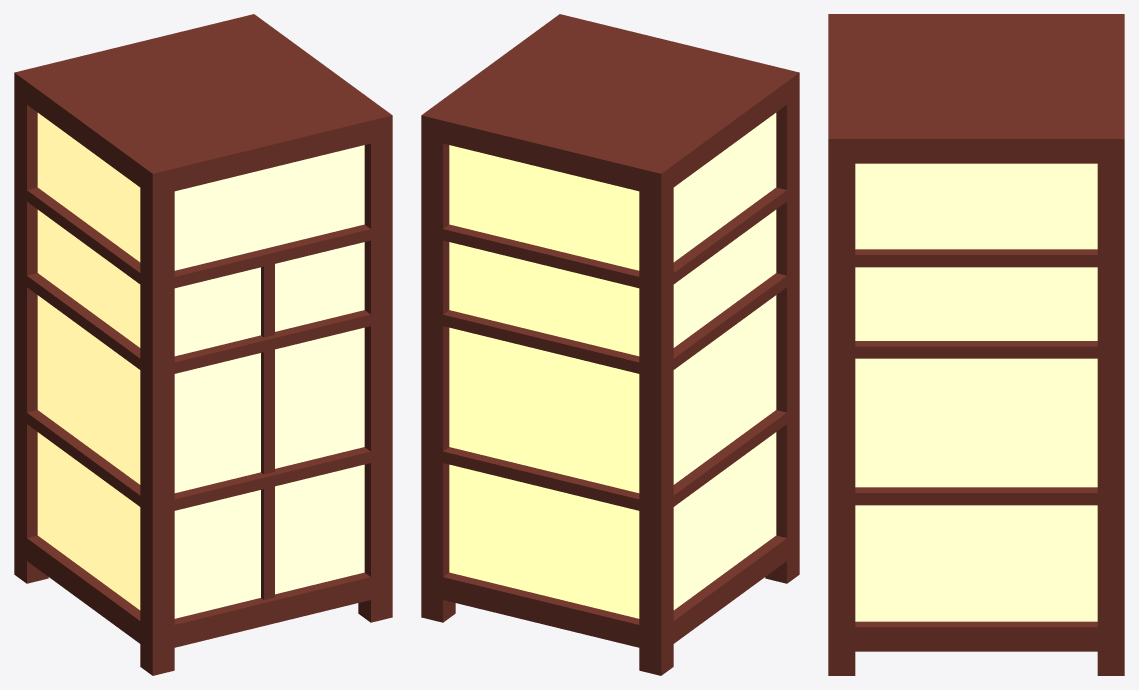
The model's file is Lampe_jap.fbx.
The picture shows the model from 3 angles, left to right: view 1: azimuth 30°, elevation 25°; view 2: azimuth 150°, elevation 25°; view 3: azimuth 270°, elevation 25°; orthographic projection. The views are drawn at different scales.
Visible parts, largest first — view 1: Cube.005; view 2: Cube.005; view 3: Cube.005.
Part boxes in pixels (bbox=[...]): Cube.005: bbox=[14, 14, 392, 675]; Cube.005: bbox=[421, 14, 799, 675]; Cube.005: bbox=[828, 14, 1124, 675].
Size of the model in its own units: 220 by 440 by 220.
